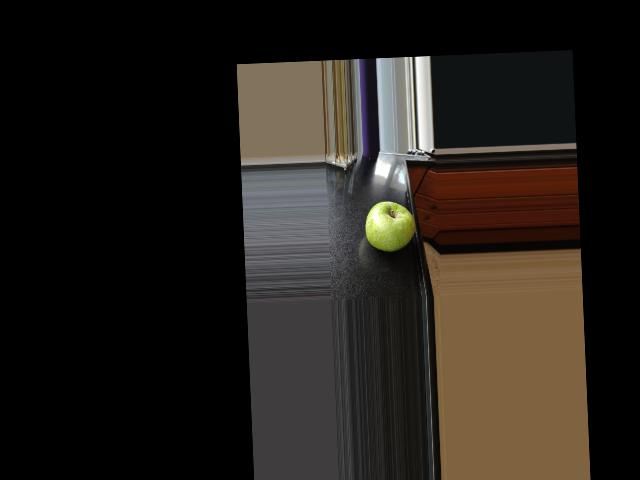apple: (361, 197, 417, 255)
